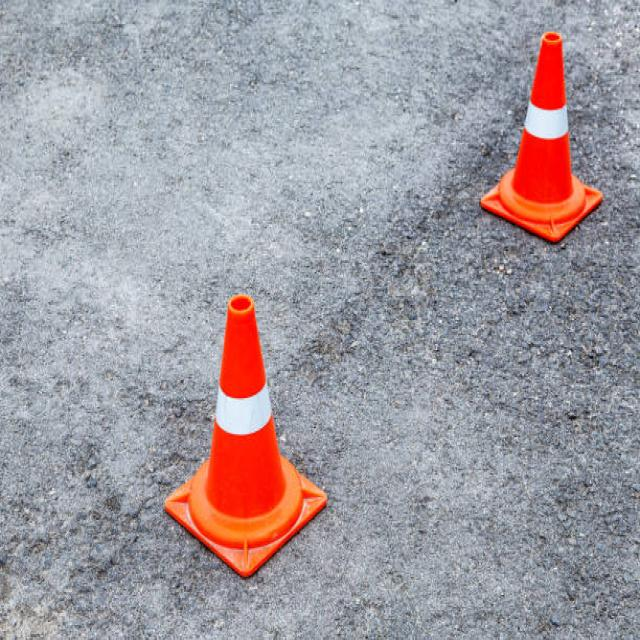Traffic Cone: (157, 265, 332, 584), (468, 13, 614, 267)
